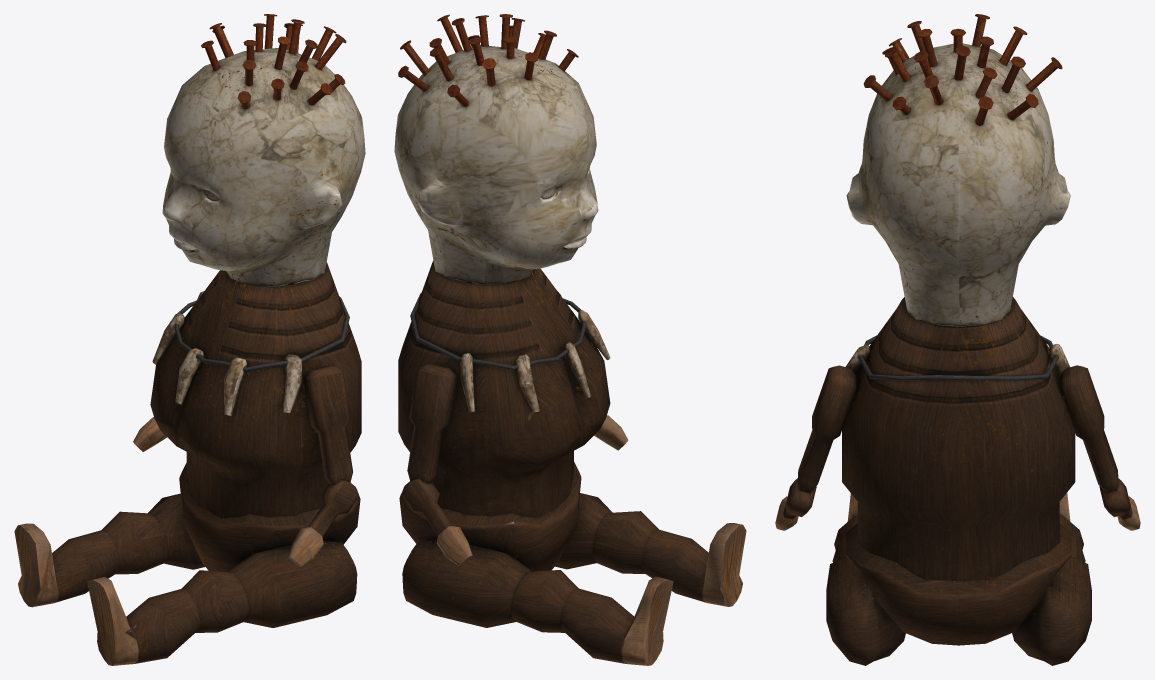
File: SM_BigHorrorDoll.fbx
3 views of the same model, side by side, from view 1: azimuth 30°, elevation 25°; view 2: azimuth 150°, elevation 25°; view 3: azimuth 270°, elevation 25° (orthographic). The views are drawn at different scales.
Visible parts, largest first — view 1: SM_BigHorrorDoll; view 2: SM_BigHorrorDoll; view 3: SM_BigHorrorDoll.
Boxes of the visible parts, x1,y1,x2,y2 form: SM_BigHorrorDoll: [14, 14, 365, 665]; SM_BigHorrorDoll: [394, 14, 746, 665]; SM_BigHorrorDoll: [775, 14, 1140, 665].
Bounding box in the file's own units: 46.14 × 44.82 × 84.77.
Materials: 1 (1 with a texture image).
